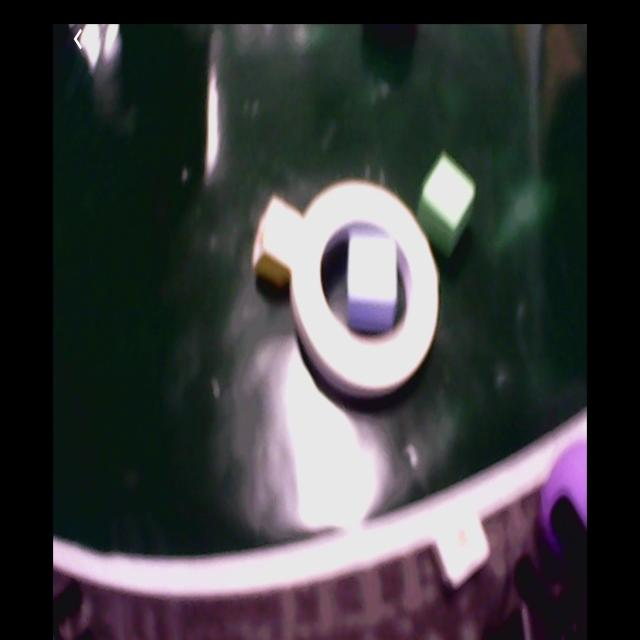ball: (543, 438, 586, 542)
